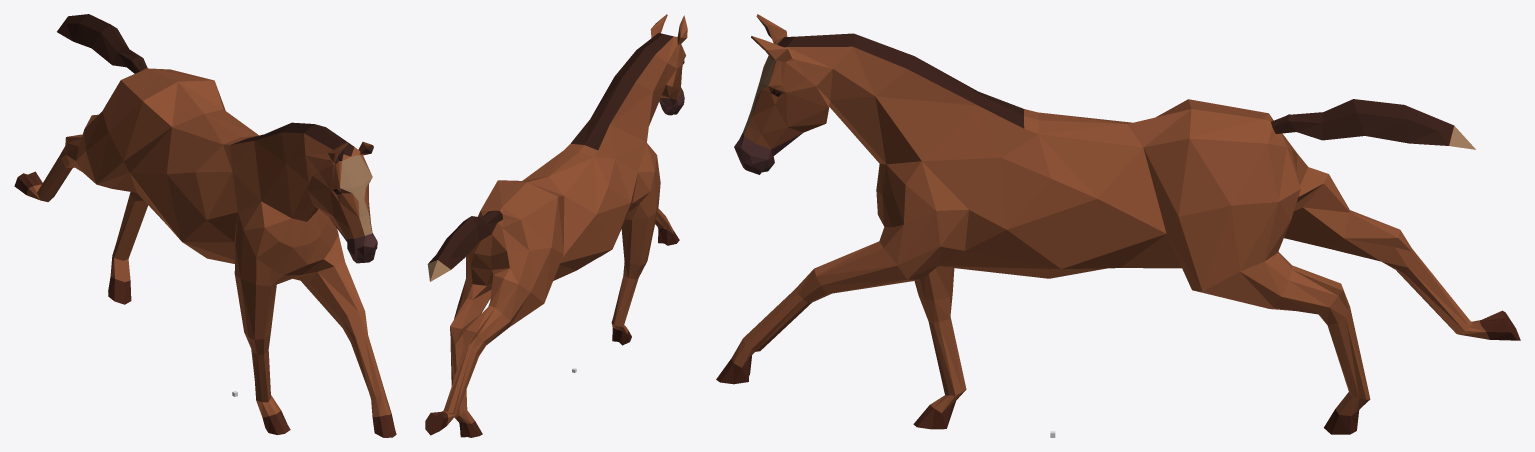
Rendered from horse.glb.
The picture shows the model from 3 angles, left to right: view 1: azimuth 30°, elevation 25°; view 2: azimuth 150°, elevation 25°; view 3: azimuth 270°, elevation 25°; orthographic projection. The views are drawn at different scales.
Visible parts, largest first — view 1: Mesh_0; view 2: Mesh_0; view 3: Mesh_0.
Boxes of the visible parts, x1=… form: Mesh_0: x1=14, y1=14, x2=396, y2=437; Mesh_0: x1=425, y1=14, x2=687, y2=437; Mesh_0: x1=716, y1=14, x2=1520, y2=434.
Size of the model in its own units: 61.1 by 184 by 322.
